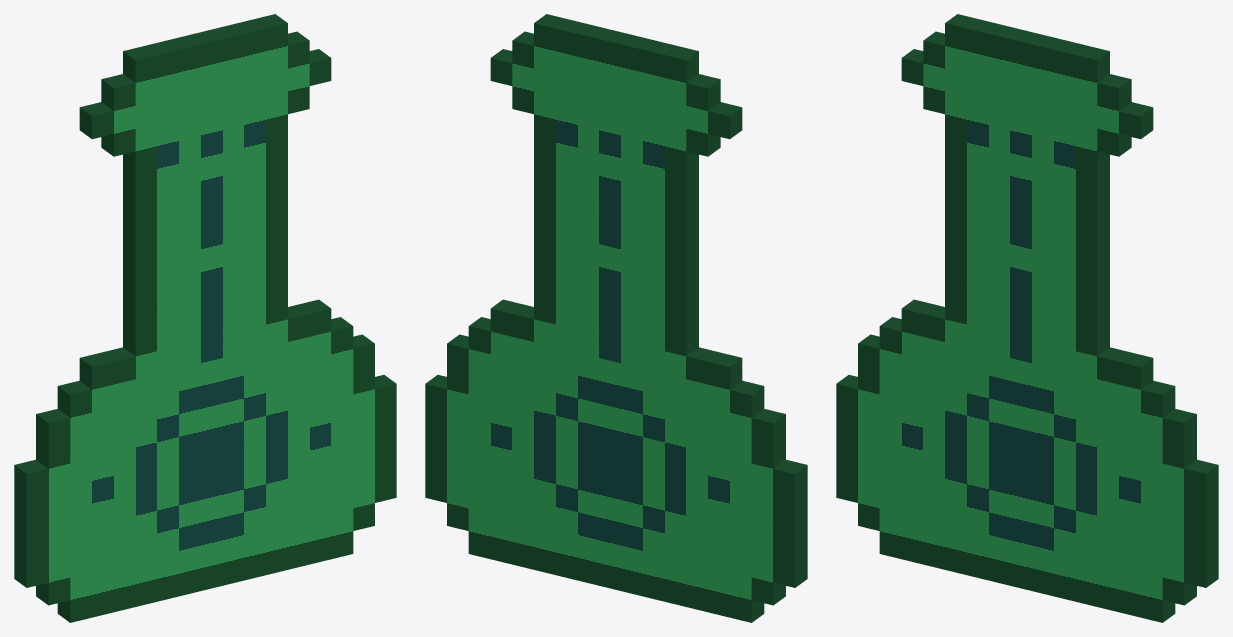
File: neon_fabryka.dae
The picture shows the model from 3 angles, left to right: view 1: azimuth 30°, elevation 25°; view 2: azimuth 150°, elevation 25°; view 3: azimuth 330°, elevation 25°; orthographic projection.
Parts seen in each view (by area): view 1: Content; view 2: Content; view 3: Content.
Boxes of the visible parts, left/top/right/bottom form: Content: left=14, top=14, right=396, bottom=622; Content: left=425, top=14, right=807, bottom=622; Content: left=836, top=14, right=1218, bottom=622.
Size of the model in its own units: 17 by 24 by 1.
Materials: 1 (1 with a texture image).
